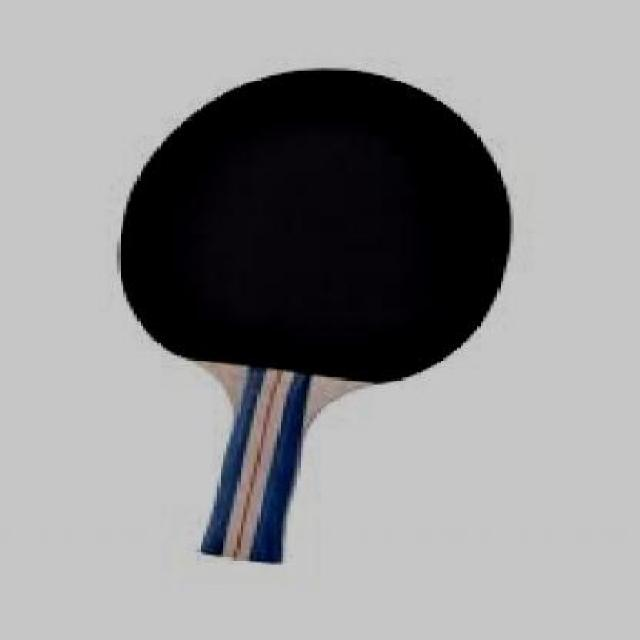table_tennis_racket: (120, 69, 515, 568), (118, 69, 514, 565)
